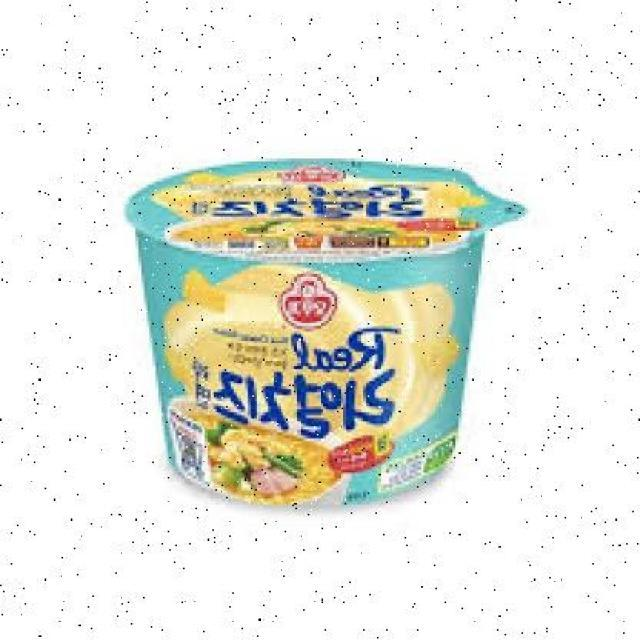Miscellaneous: (104, 126, 526, 532)
